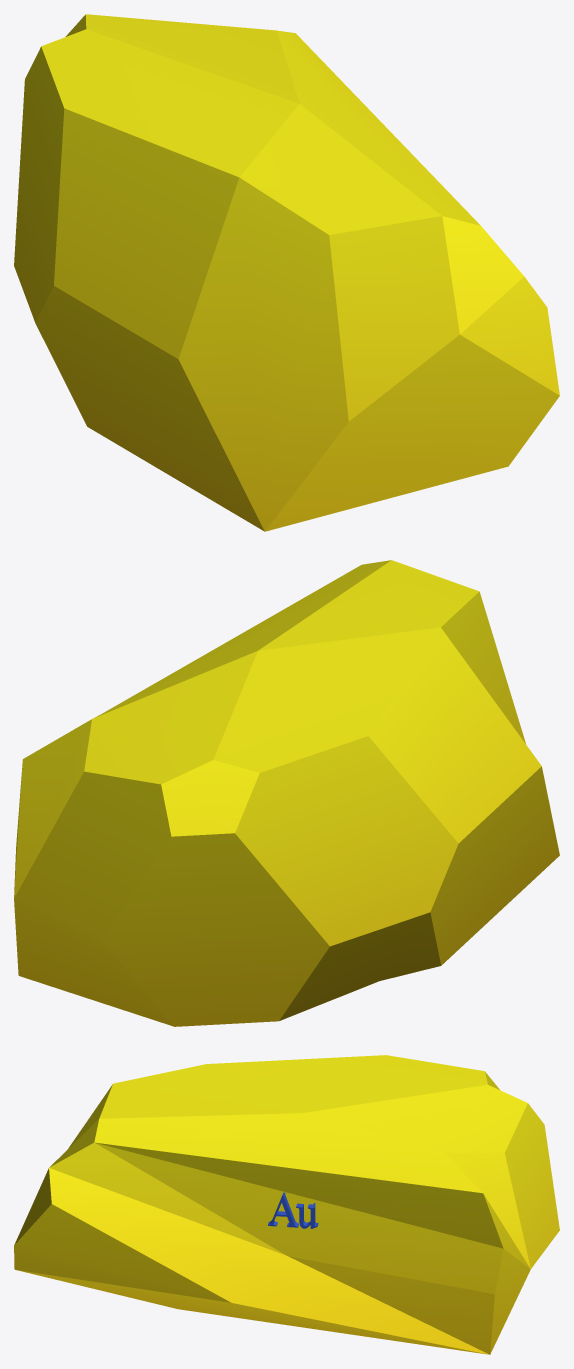
Rendered from Rock_Golden.fbx.
3 renders of one model, top to bottom at view 1: azimuth 30°, elevation 25°; view 2: azimuth 150°, elevation 25°; view 3: azimuth 270°, elevation 25°, orthographic. The views are drawn at different scales.
Parts seen in each view (by area): view 1: Icosphere.041; view 2: Icosphere.041; view 3: Icosphere.041.
Boxes of the visible parts, x1,y1,x2,y2 form: Icosphere.041: [14, 14, 559, 531]; Icosphere.041: [14, 560, 559, 1026]; Icosphere.041: [14, 1055, 559, 1354].
Size of the model in its own units: 176 by 132 by 306.
